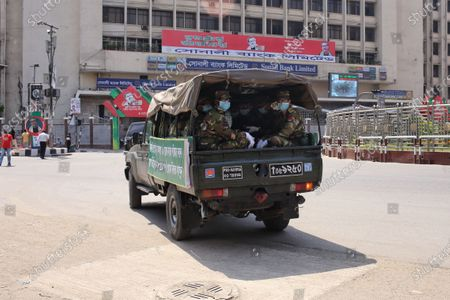army vehicle: (123, 68, 323, 240)
